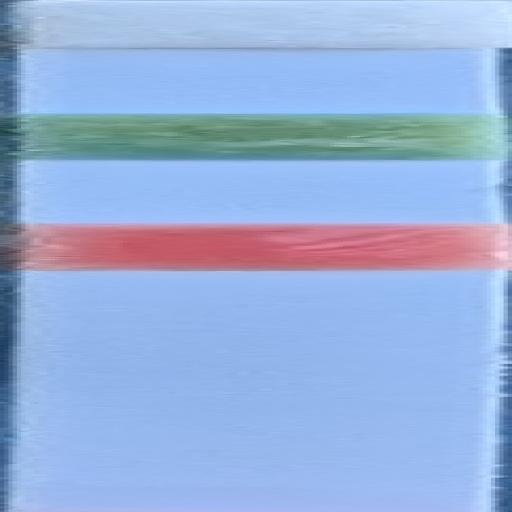pads: (0, 217, 512, 273), (0, 111, 512, 164), (0, 0, 512, 52)
